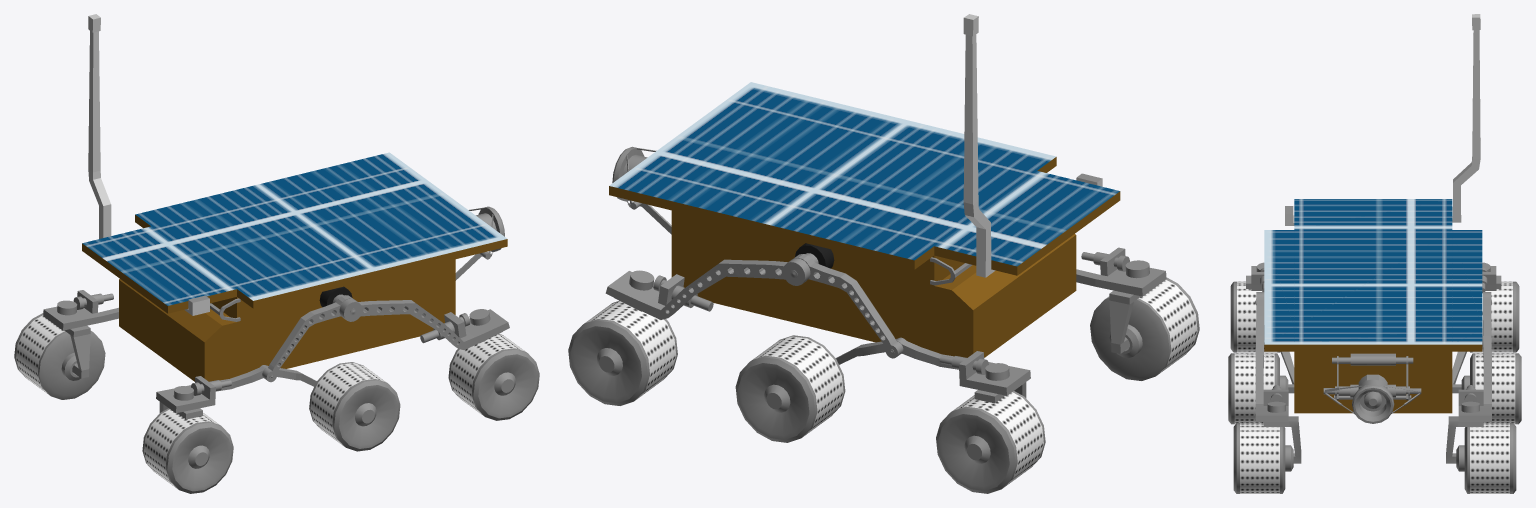
Rendered from Sojourner_Rover_UVs.fbx.
3 renders of one model, left to right at view 1: azimuth 30°, elevation 25°; view 2: azimuth 150°, elevation 25°; view 3: azimuth 270°, elevation 25°, orthographic. The views are drawn at different scales.
Visible parts, largest first — view 1: SojournerRover, RoverFrontWheel.R.001, RoverFrontWheel.R, RoverFrontWheel.R.002, RoverFrontWheel.L.002, RoverWheelsFront.R, RoverBackWheels.L, RoverBackWheels.R, RoverWheelsMiddle.R, RoverDrillHead; view 2: SojournerRover, RoverFrontWheel.L, RoverFrontWheel.L.001, RoverFrontWheel.L.002, RoverFrontWheel.R.002, RoverWheelsFront.L, RoverBackWheels.R, RoverBackWheels.L, RoverWheelsMiddle.L, RoverDrillHead; view 3: SojournerRover, RoverFrontWheel.L.001, RoverFrontWheel.R, RoverFrontWheel.L, RoverFrontWheel.R.001, RoverWheelsFront.L, RoverWheelsFront.R, RoverDrillHead, RoverFrontWheel.L.002, RoverFrontWheel.R.002, RoverBackWheels.L, RoverBackWheels.R (+1 smaller).
Part boxes in pixels (x1,y1,x2,y2): SojournerRover: (82, 14, 507, 381); RoverFrontWheel.R.001: (309, 362, 400, 451); RoverFrontWheel.R: (448, 334, 539, 420); RoverFrontWheel.R.002: (142, 408, 233, 493); RoverFrontWheel.L.002: (14, 313, 105, 399); RoverWheelsFront.R: (339, 298, 509, 349); RoverBackWheels.L: (43, 290, 118, 378); RoverBackWheels.R: (156, 365, 316, 419); RoverWheelsMiddle.R: (262, 295, 353, 382); RoverDrillHead: (468, 206, 504, 259); SojournerRover: (609, 14, 1120, 357); RoverFrontWheel.L: (735, 335, 845, 442); RoverFrontWheel.L.001: (568, 300, 677, 405); RoverFrontWheel.L.002: (936, 391, 1045, 493); RoverFrontWheel.R.002: (1090, 277, 1199, 380); RoverWheelsFront.L: (605, 258, 810, 319); RoverBackWheels.R: (1076, 247, 1166, 353); RoverBackWheels.L: (836, 337, 1030, 403); RoverWheelsMiddle.L: (793, 254, 903, 358); RoverDrillHead: (612, 146, 656, 209); SojournerRover: (1264, 14, 1482, 413); RoverFrontWheel.L.001: (1456, 423, 1516, 493); RoverFrontWheel.R: (1233, 423, 1293, 493); RoverFrontWheel.L: (1461, 353, 1521, 424); RoverFrontWheel.R.001: (1228, 353, 1288, 424); RoverWheelsFront.L: (1446, 292, 1491, 463); RoverWheelsFront.R: (1255, 292, 1301, 463); RoverDrillHead: (1323, 374, 1421, 423); RoverFrontWheel.L.002: (1470, 281, 1519, 352); RoverFrontWheel.R.002: (1230, 281, 1279, 352); RoverBackWheels.L: (1452, 262, 1501, 393); RoverBackWheels.R: (1246, 262, 1294, 393).
Bounding box in the file's own units: 122 × 83.78 × 110.
